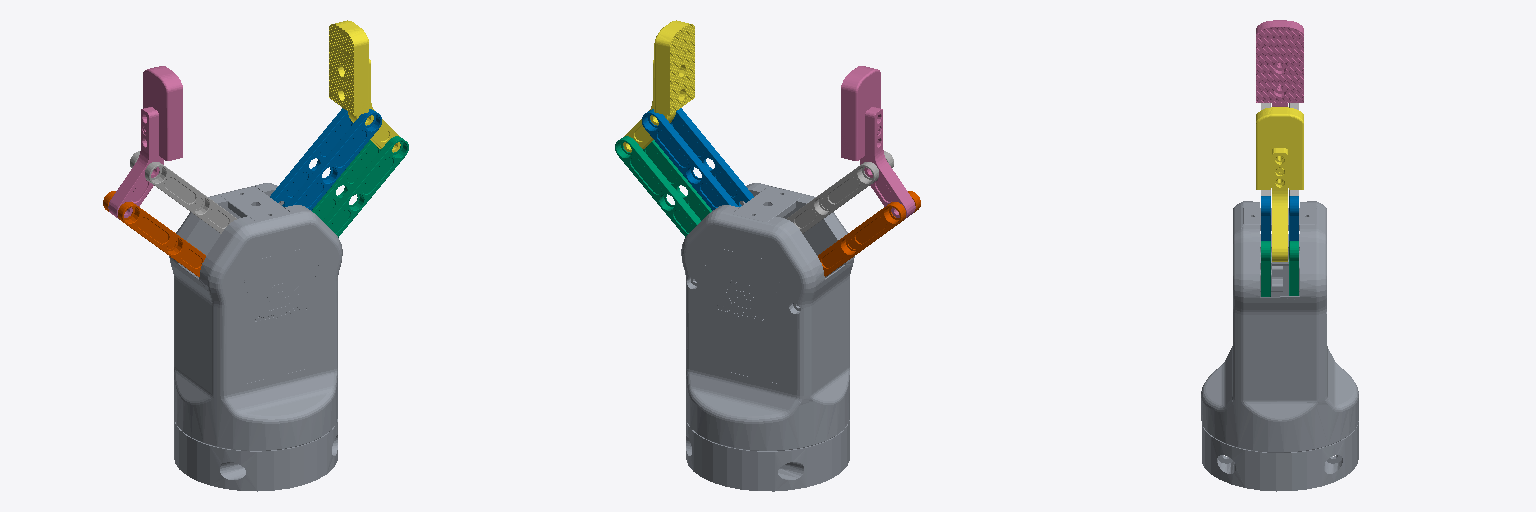
The robot description file, URDF, robot "crt_ctag2f90d_gripper_visualization":
<?xml version="1.0" encoding="utf-8"?>
<robot name="crt_ctag2f90d_gripper_visualization">
  <link name="base" />
  
  <link name="base_link">
    <inertial>
      <origin xyz="3.84872289645122E-06 -4.41448135187968E-05 0.0553867866771657" rpy="0 0 0" />
      <mass value="0.953455976099042" />
      <inertia ixx="0.00177628843801648" ixy="-8.19676071724033E-10" ixz="-3.00472546877836E-08" iyy="0.00187418176115802" iyz="-3.98009757950365E-07" izz="0.000875448946929789" />
    </inertial>
    <visual>
      <origin xyz="0 0 0" rpy="0 0 0" />
      <geometry>
        <mesh filename="package://crt_ctag2f90d_gripper_visualization/meshes/base_link.STL" />
      </geometry>
      <material name=""><color rgba="0.615686274509804 0.63921568627451 0.674509803921569 1" /></material>
    </visual>
    <collision>
      <origin xyz="0 0 0" rpy="0 0 0" /><geometry><mesh filename="package://crt_ctag2f90d_gripper_visualization/meshes/base_link.STL" /></geometry>
    </collision>
  </link>

  <joint name="base_link_Joint" type="fixed">
    <origin xyz="0 0 0" rpy="0 0 0" />
    <parent link="base" />
    <child link="base_link" />
  </joint>

  <link name="Left_1_Link">
    <visual><geometry><mesh filename="package://crt_ctag2f90d_gripper_visualization/meshes/Left_1_Link.STL" /></geometry></visual>
    <collision><geometry><mesh filename="package://crt_ctag2f90d_gripper_visualization/meshes/Left_1_Link.STL" /></geometry></collision>
  </link>

  <joint name="Left_1_Joint" type="revolute">
    <origin xyz="0.030141 0 0.10415" rpy="1.5708 0 0" />
    <parent link="base_link" />
    <child link="Left_1_Link" />
    <axis xyz="0 0 -1" />
    <limit lower="-0.91" upper="0" effort="10" velocity="10" />
  </joint>

  <link name="Left_Support_Link">
    <visual><geometry><mesh filename="package://crt_ctag2f90d_gripper_visualization/meshes/Left_Support_Link.STL" /></geometry></visual>
    <collision><geometry><mesh filename="package://crt_ctag2f90d_gripper_visualization/meshes/Left_Support_Link.STL" /></geometry></collision>
  </link>

  <joint name="Left_Support_Joint" type="revolute">
    <origin xyz="0.040359 0.037365 0" rpy="0 0 0" />
    <parent link="Left_1_Link" />
    <child link="Left_Support_Link" />
    <axis xyz="0 0 -1" />
    <limit lower="-3.14" upper="3.14" effort="10" velocity="10" />
    <mimic joint="Left_1_Joint" multiplier="-1" offset="0" />
  </joint>

  <link name="Left_2_Link">
    <visual><geometry><mesh filename="package://crt_ctag2f90d_gripper_visualization/meshes/Left_2_Link.STL" /></geometry></visual>
  </link>
  <joint name="Left_2_Joint" type="revolute">
    <origin xyz="0.016 0 0.121" rpy="1.5708 0 0" />
    <parent link="base_link" />
    <child link="Left_2_Link" />
    <axis xyz="0 0 -1" />
    <limit lower="-3.14" upper="3.14" effort="10" velocity="10" />
    <mimic joint="Left_1_Joint" multiplier="1" offset="0" />
  </joint>

  <link name="Right_1_Link">
    <visual><geometry><mesh filename="package://crt_ctag2f90d_gripper_visualization/meshes/Right_1_Link.STL" /></geometry></visual>
    <collision><geometry><mesh filename="package://crt_ctag2f90d_gripper_visualization/meshes/Right_1_Link.STL" /></geometry></collision>
  </link>

  <joint name="Right_1_Joint" type="revolute">
    <origin xyz="-0.030141 0 0.10415" rpy="1.5708 0 3.1416" />
    <parent link="base_link" />
    <child link="Right_1_Link" />
    <axis xyz="0 0 1" />
    <limit lower="-3.14" upper="3.14" effort="10" velocity="10" />
    <mimic joint="Left_1_Joint" multiplier="-1" offset="0" />
  </joint>

  <link name="Right_Support_Link">
    <visual><geometry><mesh filename="package://crt_ctag2f90d_gripper_visualization/meshes/Right_Support_Link.STL" /></geometry></visual>
    <collision><geometry><mesh filename="package://crt_ctag2f90d_gripper_visualization/meshes/Right_Support_Link.STL" /></geometry></collision>
  </link>

  <joint name="Right_Support_Joint" type="revolute">
    <origin xyz="0.040359 0.037365 0" rpy="0 0 0" />
    <parent link="Right_1_Link" />
    <child link="Right_Support_Link" />
    <axis xyz="0 0 -1" />
    <limit lower="-3.14" upper="3.14" effort="10" velocity="10" />
    <mimic joint="Left_1_Joint" multiplier="-1" offset="0" />
  </joint>

  <link name="Right_2_Link">
    <visual><geometry><mesh filename="package://crt_ctag2f90d_gripper_visualization/meshes/Right_2_Link.STL" /></geometry></visual>
  </link>
  <joint name="Right_2_Joint" type="revolute">
    <origin xyz="-0.016 0 0.121" rpy="1.5708 0 3.1416" />
    <parent link="base_link" />
    <child link="Right_2_Link" />
    <axis xyz="0 0 1" />
    <limit lower="-3.14" upper="3.14" effort="10" velocity="10" />
    <mimic joint="Left_1_Joint" multiplier="-1" offset="0" />
  </joint>
</robot>

--- What the picture shows (computed from the rendered views, not written in the file) ---
The picture shows the robot from 3 angles, left to right: view 1: azimuth 30°, elevation 25°; view 2: azimuth 150°, elevation 25°; view 3: azimuth 270°, elevation 25°; orthographic projection.
Model crt_ctag2f90d_gripper_visualization with 8 links and 7 joints (6 revolute, 1 fixed), rooted at base, posed every joint at zero.
Visible links, largest first — view 1: base_link, Right_Support_Link, Left_2_Link, Left_Support_Link, Left_1_Link, Right_1_Link, Right_2_Link; view 2: base_link, Right_Support_Link, Left_2_Link, Left_Support_Link, Left_1_Link, Right_1_Link, Right_2_Link; view 3: base_link, Left_Support_Link, Right_Support_Link, Left_1_Link, Left_2_Link.
Boxes of the visible links, left/top/right/bottom form: base_link: left=169, top=183, right=342, bottom=491; Right_Support_Link: left=108, top=66, right=182, bottom=219; Left_2_Link: left=270, top=108, right=381, bottom=210; Left_Support_Link: left=329, top=20, right=400, bottom=152; Left_1_Link: left=312, top=136, right=408, bottom=237; Right_1_Link: left=103, top=191, right=205, bottom=276; Right_2_Link: left=130, top=151, right=236, bottom=233; base_link: left=681, top=183, right=854, bottom=491; Right_Support_Link: left=841, top=66, right=915, bottom=219; Left_2_Link: left=642, top=108, right=753, bottom=210; Left_Support_Link: left=623, top=20, right=694, bottom=152; Left_1_Link: left=615, top=136, right=711, bottom=237; Right_1_Link: left=818, top=191, right=920, bottom=276; Right_2_Link: left=787, top=151, right=893, bottom=233; base_link: left=1201, top=201, right=1358, bottom=491; Left_Support_Link: left=1256, top=107, right=1303, bottom=261; Right_Support_Link: left=1256, top=20, right=1303, bottom=106; Left_1_Link: left=1261, top=241, right=1298, bottom=296; Left_2_Link: left=1261, top=196, right=1298, bottom=240.
Bounding box of the posed robot: 0.151 × 0.075 × 0.205 m (x, y, z).
7 mesh visuals loaded from 7 distinct referenced files (7 binary STL).